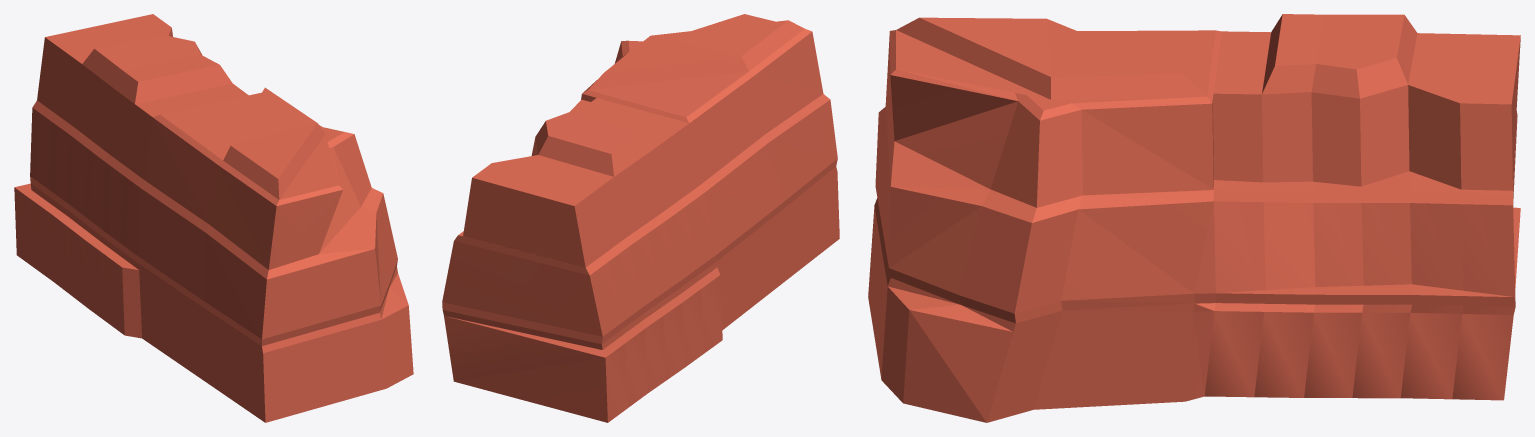
File: Roca8.fbx
The picture shows the model from 3 angles, left to right: view 1: azimuth 30°, elevation 25°; view 2: azimuth 150°, elevation 25°; view 3: azimuth 270°, elevation 25°; orthographic projection. The views are drawn at different scales.
Visible parts, largest first — view 1: Cube.007; view 2: Cube.007; view 3: Cube.007.
Boxes of the visible parts, x1,y1,x2,y2 form: Cube.007: [14, 14, 413, 422]; Cube.007: [442, 14, 839, 422]; Cube.007: [868, 14, 1520, 422].
Size of the model in its own units: 2004 by 2165 by 4169.
